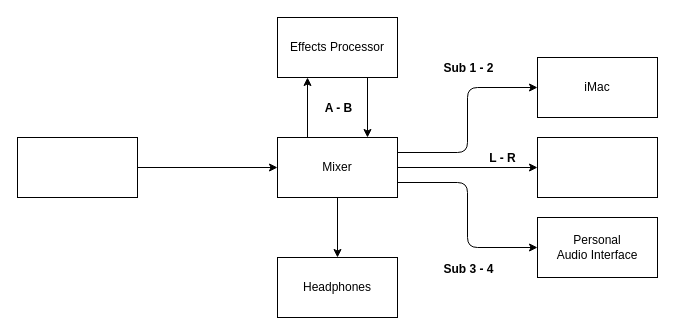
The diagram is 675 pixels wide and 335 high, and some of its shapes have lost their labels. The shapes that lost their labels are listed below. From the top down, each one's centre as x and y in pixels, then its label:
At [77,167]: "Input".
At [597,167]: "Speakers".
